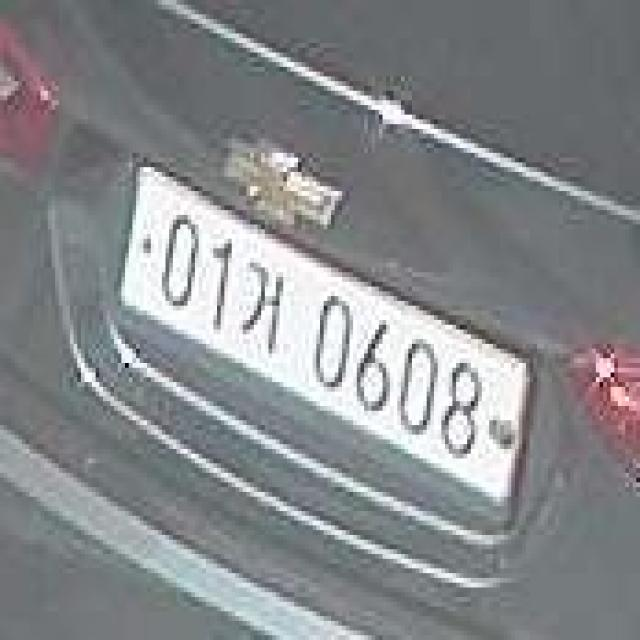illegal_plate: (114, 176, 535, 534)
